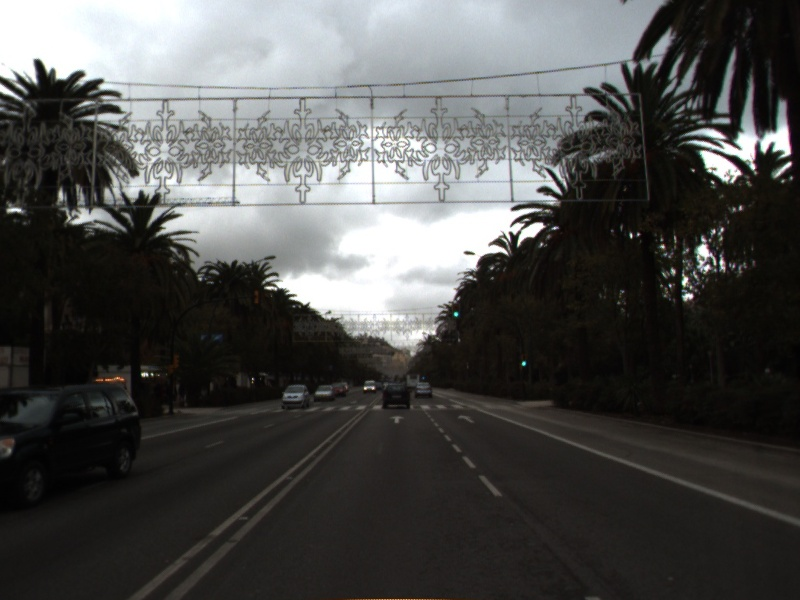STRAIGHT: (455, 413, 477, 425), (387, 414, 407, 425)
